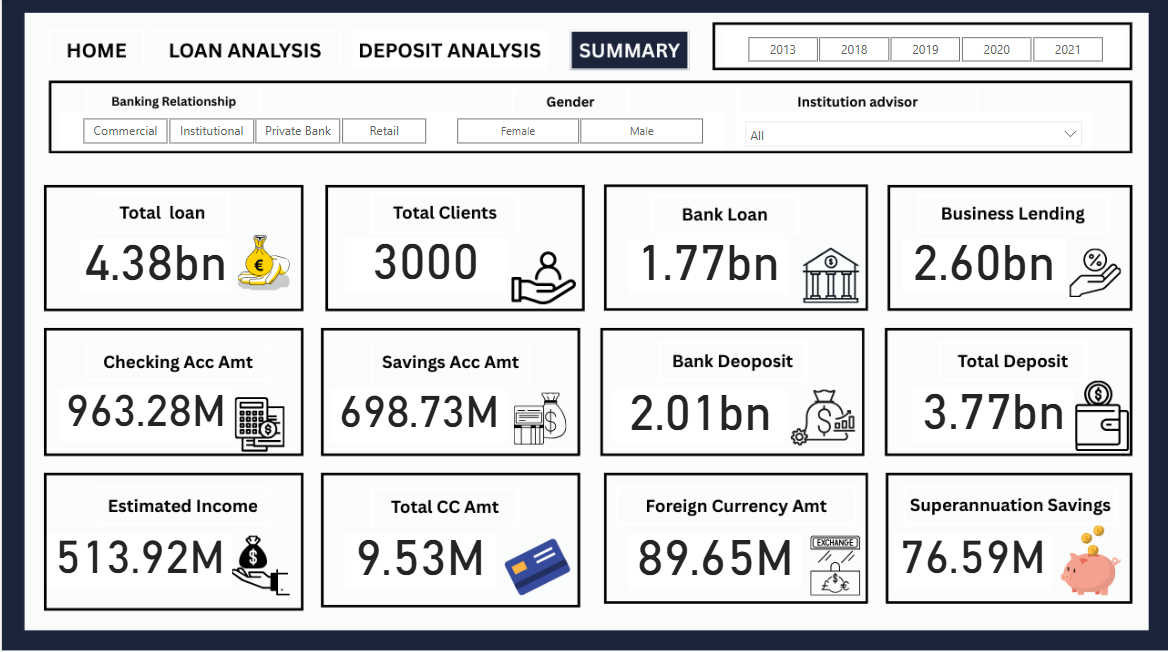

Layout of this report page (visuals, bound fields, positions):
{"tool":"powerbi","page":{"name":"Summary","canvas":[1280,720],"ordinal":3},"visuals":[{"type":"slicer","fields":{"Values":["Banking_Clients.BRId"]},"box":[63.1,126.2,426.8,41.2],"z":0},{"type":"slicer","fields":{"Values":["Banking_Clients.GenderId"]},"box":[473.4,126.2,319.7,41.2],"z":1},{"type":"slicer","fields":{"Values":["Banking_Clients.IAId"]},"box":[805.5,126.2,389.7,41.2],"z":2},{"type":"slicer","fields":{"Values":["Banking_Clients.year of joining"]},"box":[793.1,37,439.1,38.4],"z":3},{"type":"card","fields":{"Values":["Banking_Clients.Total loan"]},"box":[85.1,266.2,167.4,59],"z":4},{"type":"card","fields":{"Values":["CountNonNull(Banking_Clients.Name)"]},"box":[376,264.8,178.4,59],"z":5},{"type":"card","fields":{"Values":["Sum(Banking_Clients.Bank Loans)"]},"box":[687.5,266.2,175.6,59],"z":6},{"type":"card","fields":{"Values":["Sum(Banking_Clients.Business Lending)"]},"box":[988,266.2,179.8,59],"z":7},{"type":"card","fields":{"Values":["Sum(Banking_Clients.Checking Accounts)"]},"box":[63.1,429.5,189.4,59],"z":8},{"type":"card","fields":{"Values":["Sum(Banking_Clients.Saving Accounts)"]},"box":[360.9,430.9,193.5,59],"z":9},{"type":"card","fields":{"Values":["Sum(Banking_Clients.Bank Deposits)"]},"box":[669.6,430.9,193.5,59],"z":10},{"type":"card","fields":{"Values":["Banking_Clients.Total Deposit"]},"box":[1000.3,429.5,177,59],"z":11},{"type":"card","fields":{"Values":["Sum(Banking_Clients.Estimated Income)"]},"box":[49.4,590.1,203.1,59],"z":12},{"type":"card","fields":{"Values":["Sum(Banking_Clients.Credit Card Balance)"]},"box":[376,590.1,166,59],"z":13},{"type":"card","fields":{"Values":["Sum(Banking_Clients.Foreign Currency Account)"]},"box":[687.5,590.1,190.7,59],"z":14},{"type":"card","fields":{"Values":["Sum(Banking_Clients.Superannuation Savings)"]},"box":[978.4,590.1,174.3,59],"z":15},{"type":"actionButton","box":[57.6,35.7,100.2,39.8],"z":16},{"type":"actionButton","box":[168.8,35.7,192.1,39.8],"z":17},{"type":"actionButton","box":[389.7,37,207.2,39.8],"z":18}]}

Visuals, with their boxes in screenshot pixels (x1, y1, x2, y2), scaled from the page's 1280x720 canvas onto the 1168x652 screenshot:
slicer - Banking_Clients.BRId: 58,114,447,152
slicer - Banking_Clients.GenderId: 432,114,724,152
slicer - Banking_Clients.IAId: 735,114,1091,152
slicer - Banking_Clients.year of joining: 724,34,1124,68
card - Banking_Clients.Total loan: 78,241,230,294
card - CountNonNull(Banking_Clients.Name): 343,240,506,293
card - Sum(Banking_Clients.Bank Loans): 627,241,788,294
card - Sum(Banking_Clients.Business Lending): 902,241,1066,294
card - Sum(Banking_Clients.Checking Accounts): 58,389,230,442
card - Sum(Banking_Clients.Saving Accounts): 329,390,506,444
card - Sum(Banking_Clients.Bank Deposits): 611,390,788,444
card - Banking_Clients.Total Deposit: 913,389,1074,442
card - Sum(Banking_Clients.Estimated Income): 45,534,230,588
card - Sum(Banking_Clients.Credit Card Balance): 343,534,495,588
card - Sum(Banking_Clients.Foreign Currency Account): 627,534,801,588
card - Sum(Banking_Clients.Superannuation Savings): 893,534,1052,588
actionButton: 53,32,144,68
actionButton: 154,32,329,68
actionButton: 356,34,545,70
